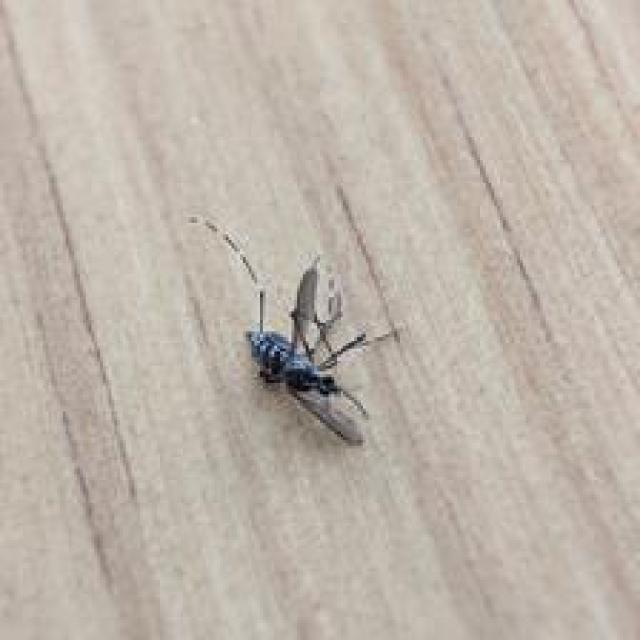Aedes albopictus: (189, 214, 400, 449)
